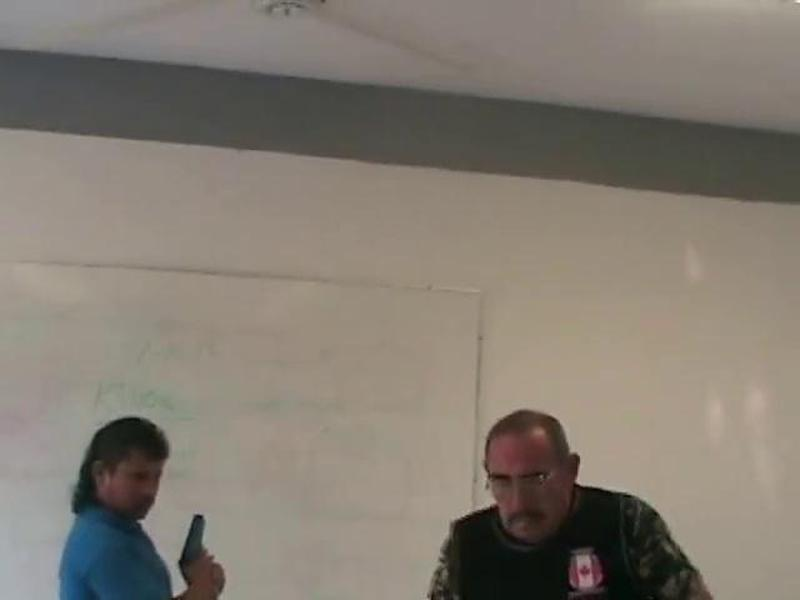Pistola: (171, 505, 234, 598)
